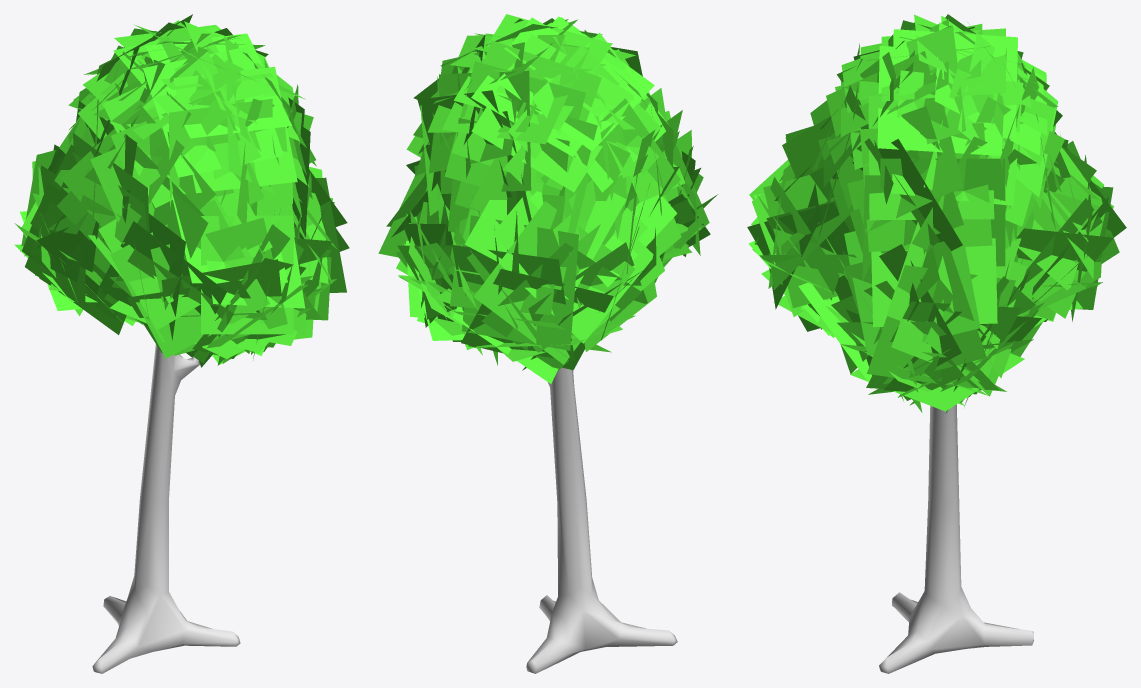
File: Tree01.fbx
3 renders of one model, left to right at view 1: azimuth 30°, elevation 25°; view 2: azimuth 150°, elevation 25°; view 3: azimuth 270°, elevation 25°, orthographic. The views are drawn at different scales.
Visible parts, largest first — view 1: Tree01; view 2: Tree01; view 3: Tree01.
Part boxes in pixels (box(x1,y1,x2,y2)): Tree01: box(14, 14, 349, 673); Tree01: box(378, 14, 717, 673); Tree01: box(747, 14, 1126, 673).
Size of the model in its own units: 7.31 by 13.51 by 6.41.
